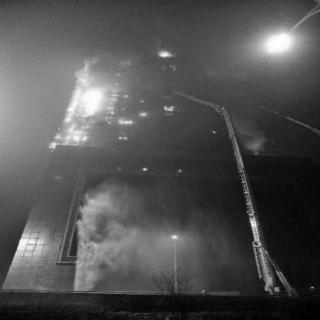Fire: (45, 54, 118, 144), (159, 103, 180, 113), (158, 48, 174, 60), (138, 109, 148, 117)
Smoke: (79, 185, 125, 281)
other: (15, 218, 49, 262), (259, 28, 295, 56), (238, 130, 272, 154), (244, 215, 264, 229)
